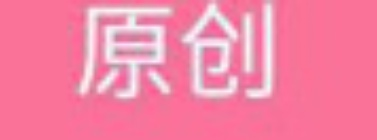TextView: (1, 1, 376, 139)
